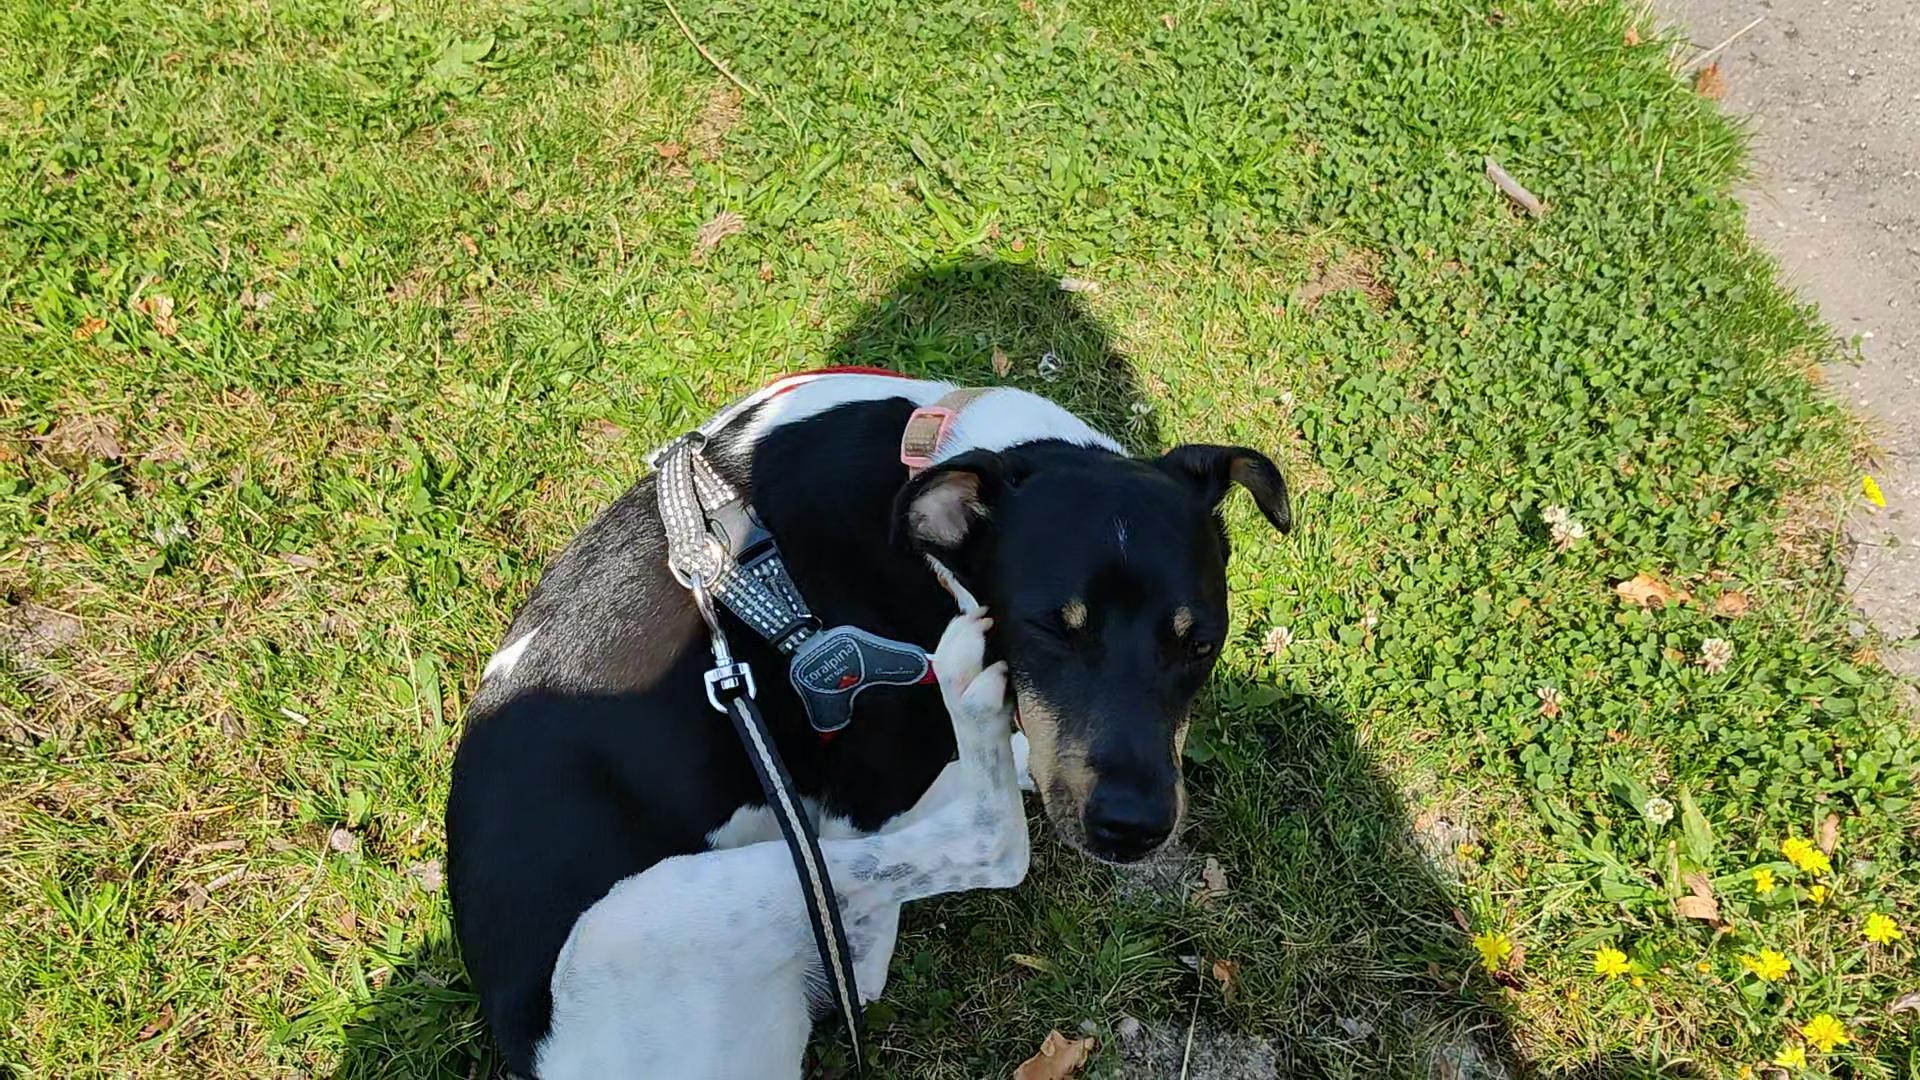Dog: (427, 356, 1294, 1079)
